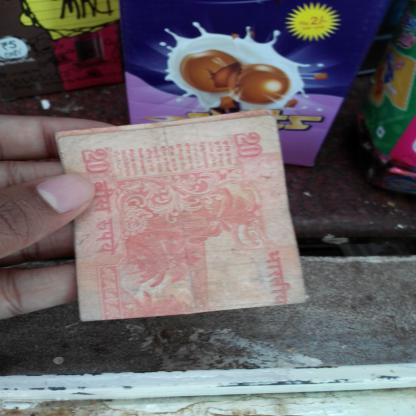Old20Back: (69, 118, 280, 318)
